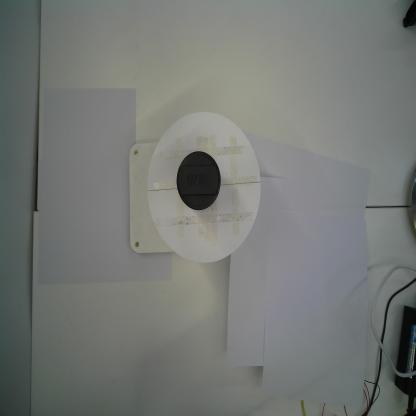Canned Food: (177, 148, 222, 214)
